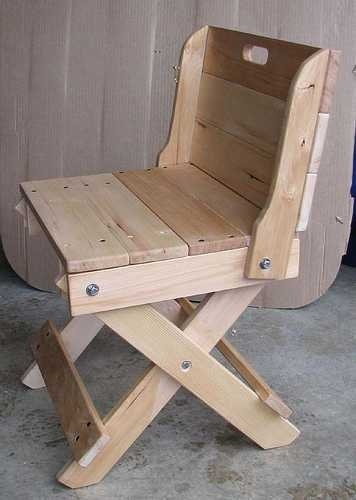obstacle: (7, 26, 337, 487)
